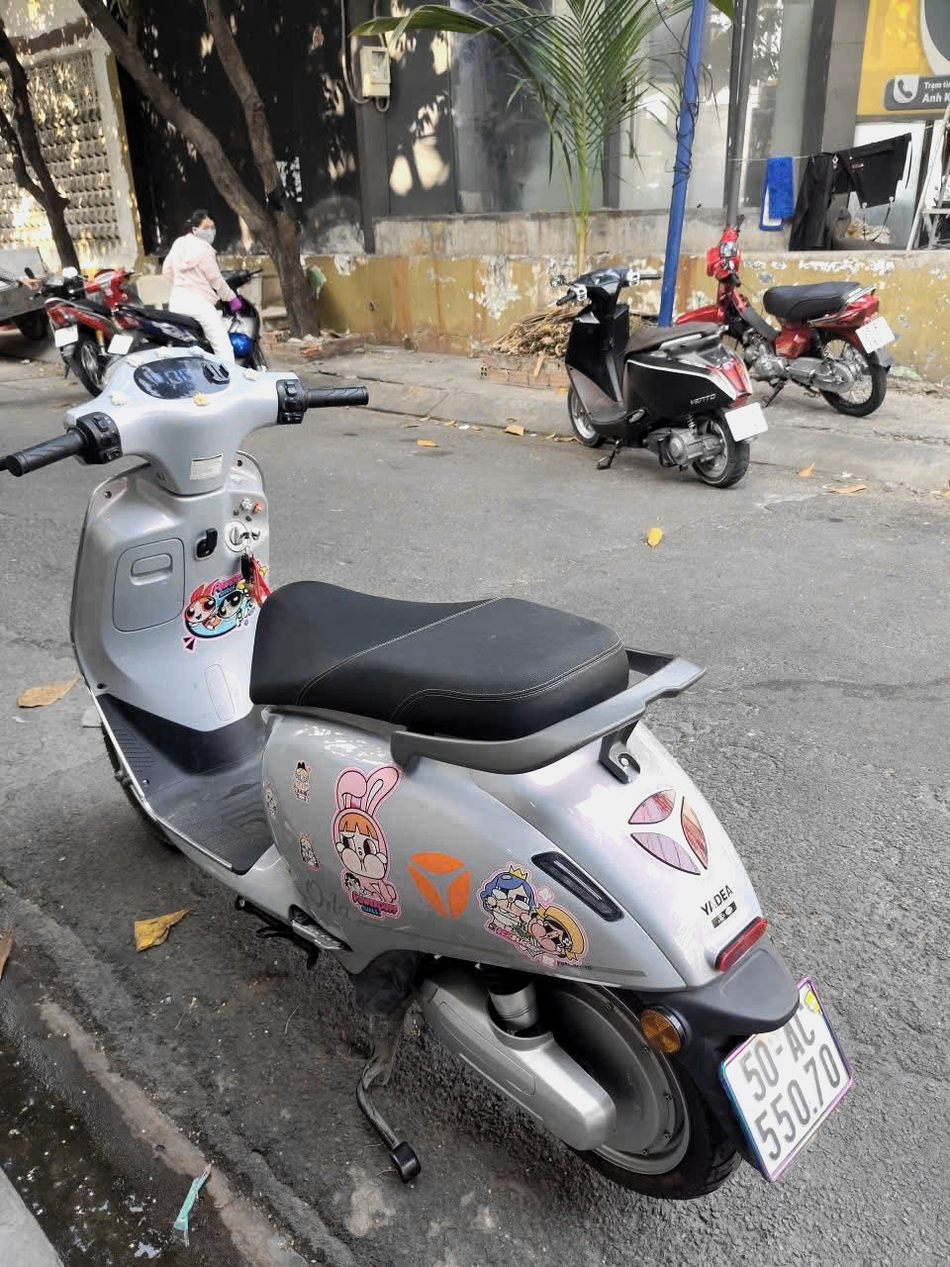Bien-so: (715, 982, 853, 1186), (720, 404, 774, 445), (856, 317, 896, 350)
